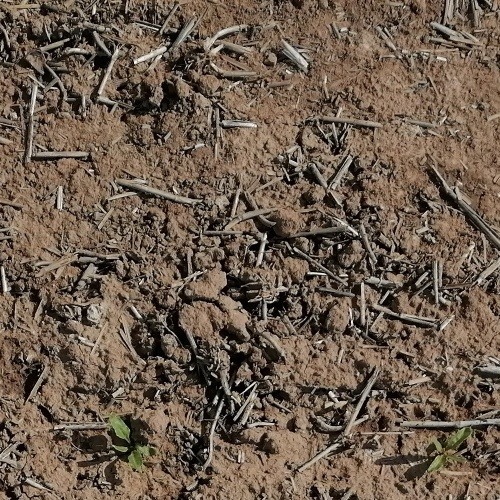beet: (429, 427, 474, 474), (109, 412, 144, 472)
